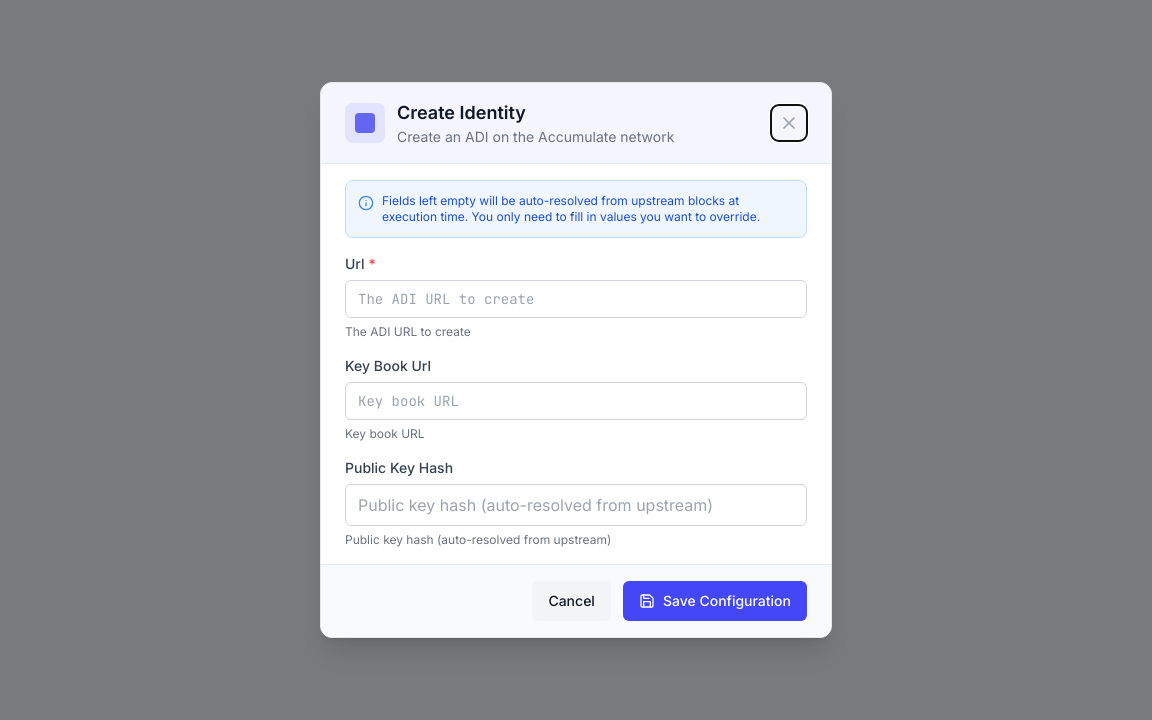
BlockConfigModal › clears a field error as the user types
Step 1. Click the button "Save Configuration" → (715, 601), box [623,581,807,621]
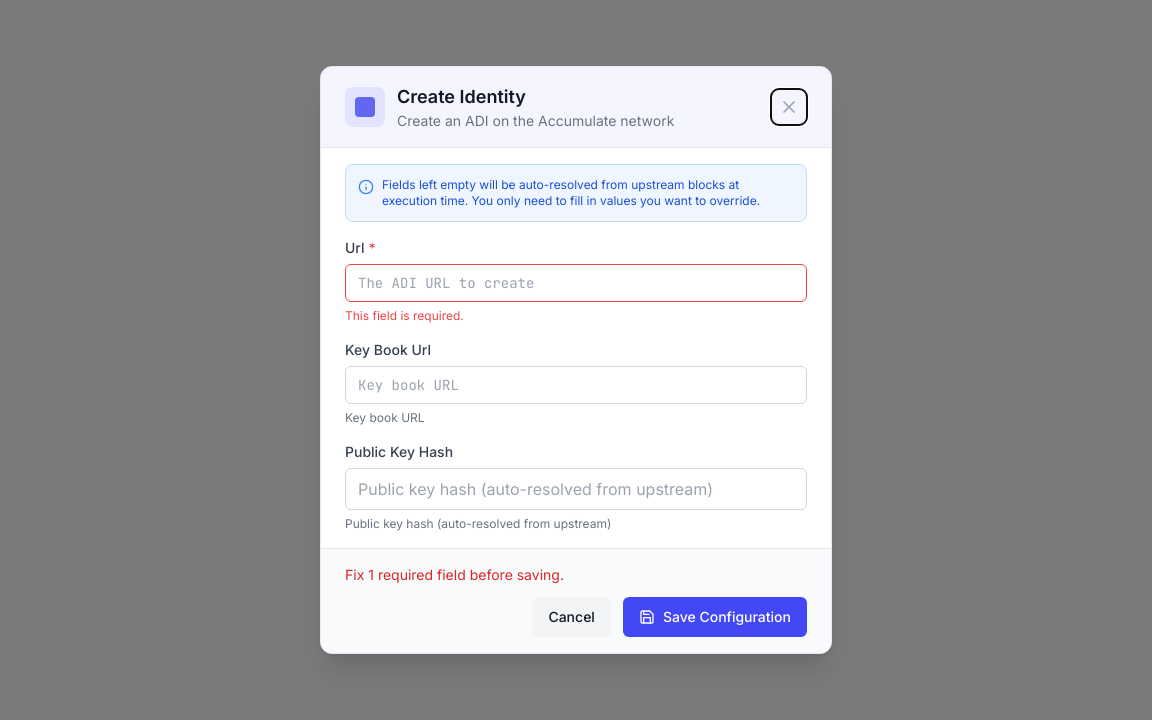
Expected: the text "This field is required." is shown, [345,308,464,323]
Step 2. Type "acc://now.acme" into the field with placeholder "The ADI URL to create" → (576, 283), box [345,264,807,302]
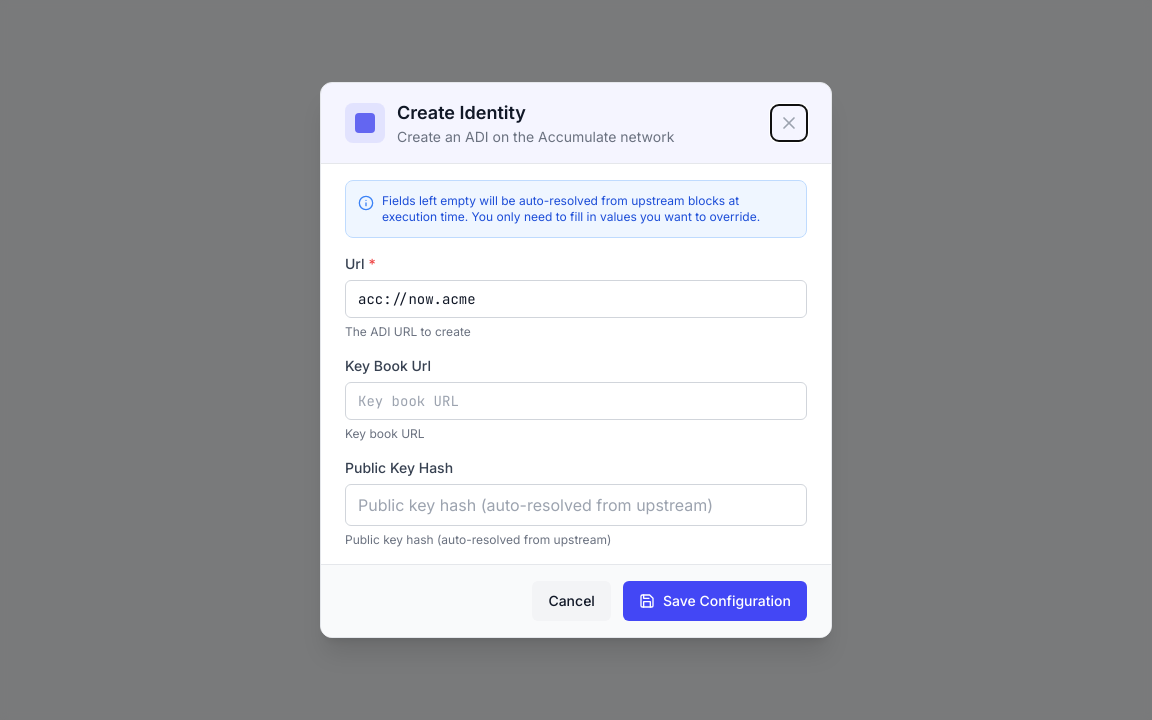
Expected: the text "This field is required." is gone
